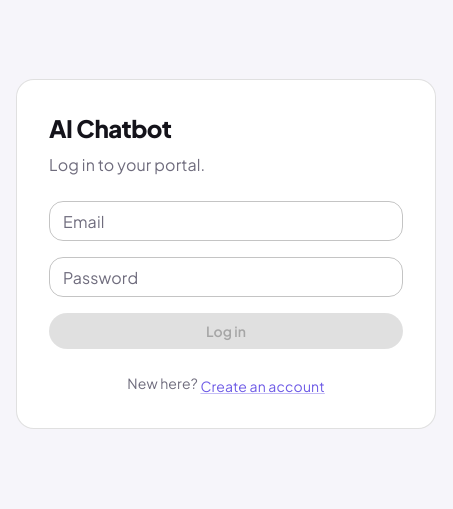
Test: AuthFlow (4.1, 2.9 — stepped auth + client validation) › routes an unverified login to the verify step (email carried, code resent)
The image size is (453, 509).
Type "new@user.com" into the field with test id "login-email". click: (226, 221)
box: [49,201,403,241]
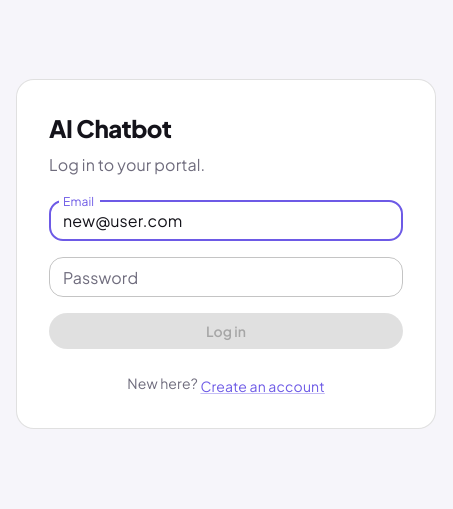
Type "Password1" into the password field with test id "login-pass". click: (226, 277)
box: [49,257,403,297]
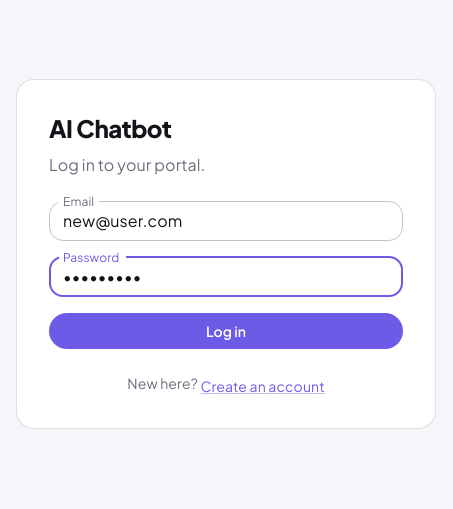
Click the button with test id "login". click: (226, 331)
box: [49,313,403,349]
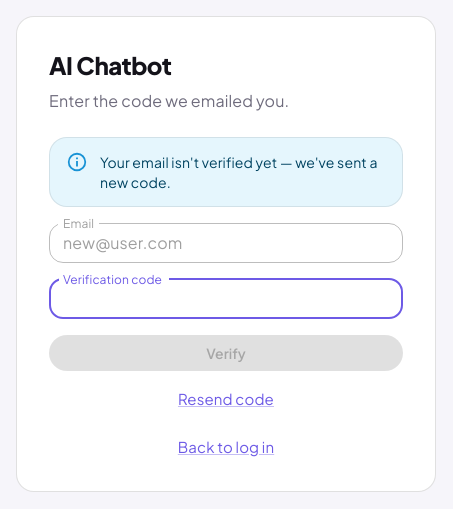
Expected: the field with test id "cf-code" is shown, [49,279,403,319]
Expected: the button with test id "confirm" is shown, [49,335,403,372]
